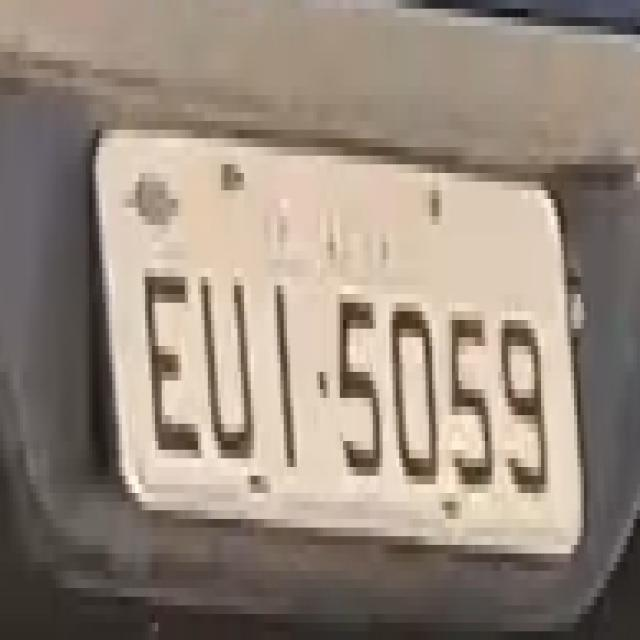Placa_mercosul_carro: (87, 125, 589, 556)
